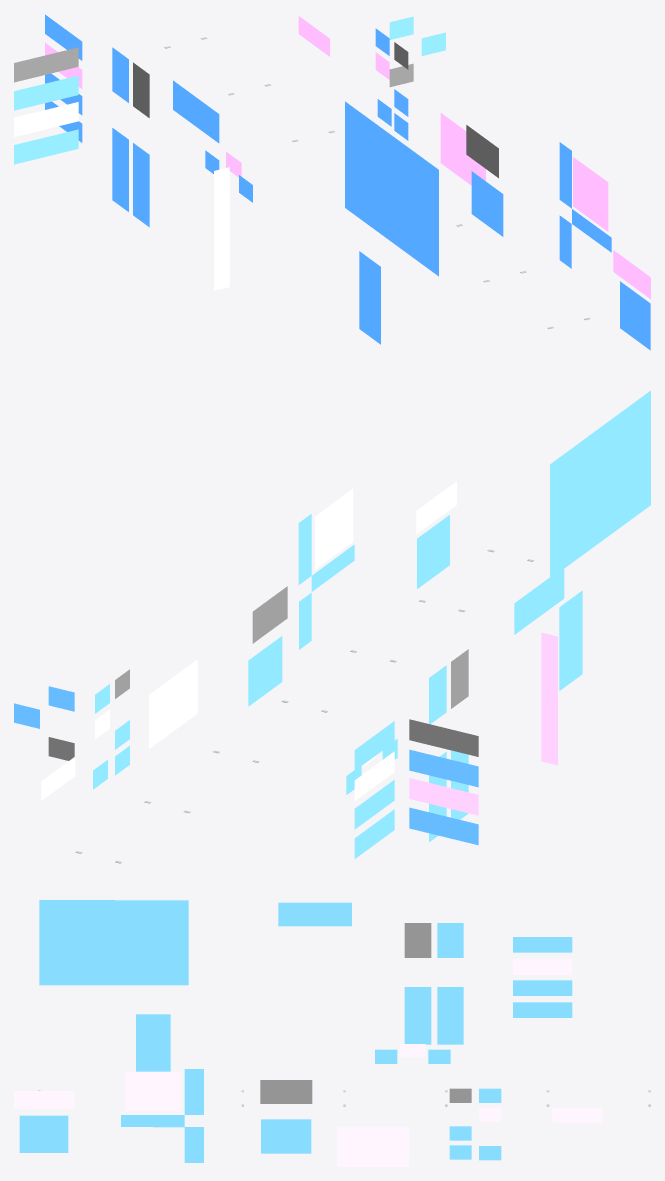
File: FR1Light.fbx
3 views of the same model, one above another, from view 1: azimuth 30°, elevation 25°; view 2: azimuth 150°, elevation 25°; view 3: azimuth 270°, elevation 25° (orthographic). The views are drawn at different scales.
Visible parts, largest first — view 1: Plane; view 2: Plane; view 3: Plane.
Part boxes in pixels (<box>): Plane: <box>14,14,650,350</box>; Plane: <box>14,390,650,863</box>; Plane: <box>14,900,650,1166</box>.
Size of the model in its own units: 11456 by 5850 by 18366.
